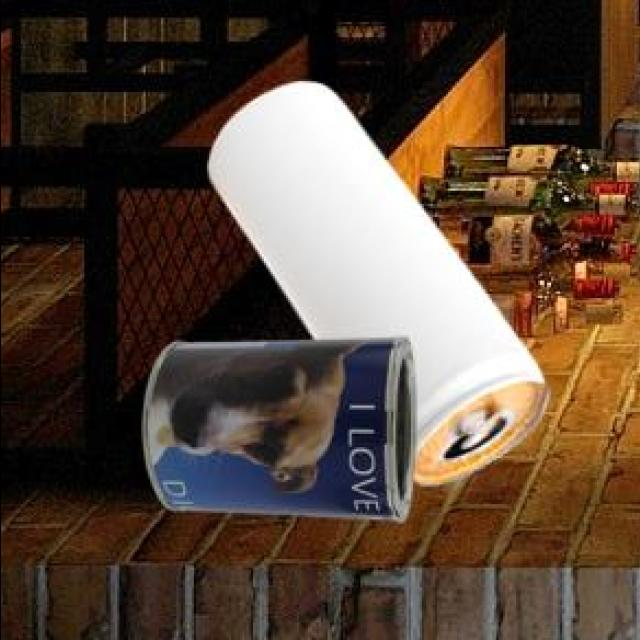logam: (212, 78, 551, 481), (146, 334, 418, 518)
